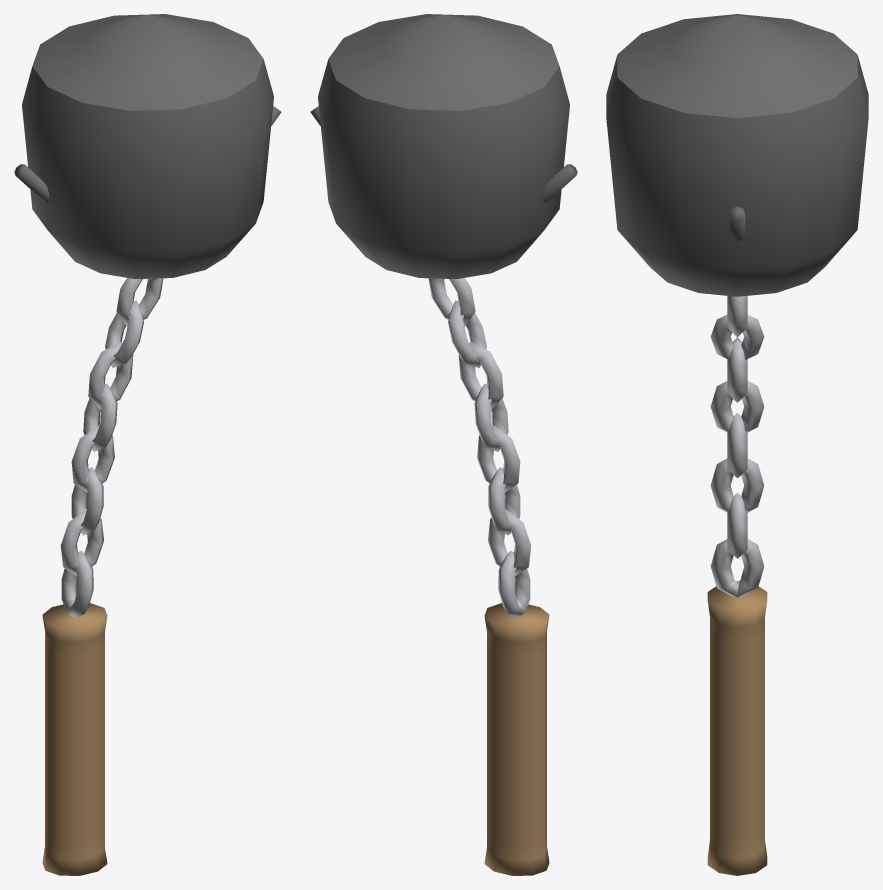
File: traveling-kettle.glb
3 views of the same model, side by side, from view 1: azimuth 30°, elevation 25°; view 2: azimuth 150°, elevation 25°; view 3: azimuth 270°, elevation 25° (orthographic). The views are drawn at different scales.
Parts seen in each view (by area): view 1: traveling-kettle; view 2: traveling-kettle; view 3: traveling-kettle.
Part boxes in pixels (left/top/right/bottom): traveling-kettle: left=14, top=14, right=281, bottom=875; traveling-kettle: left=310, top=14, right=577, bottom=875; traveling-kettle: left=606, top=14, right=868, bottom=875.
Size of the model in its own units: 0.2904 by 0.87 by 0.234.
